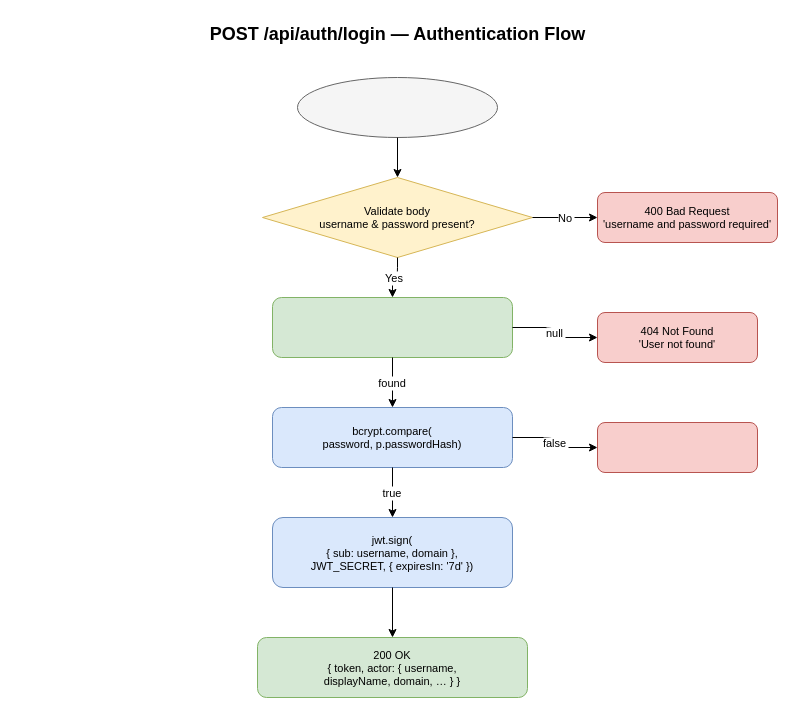
The diagram is 795 pixels wide and 715 high, and some of its shapes have lost their labels. The shapes that lost their labels are listed below. From the top down, each one's box as (x1, y1, x2, y2) in pixels, then its label:
(296, 76, 498, 138): Client { username, password }
(272, 296, 512, 358): Neo4j: MATCH (p:Person) WHERE p.username = $username RETURN p
(596, 422, 758, 472): 401 Unauthorized 'Invalid credentials'
